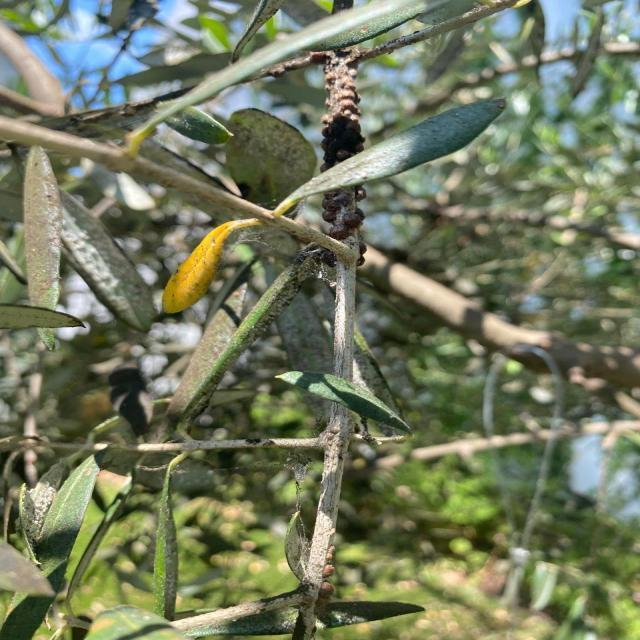BlackScale: (311, 46, 386, 171), (317, 404, 360, 482), (322, 186, 364, 244), (316, 544, 335, 606), (356, 240, 367, 268), (323, 250, 334, 266)
OlivePeacockSpot: (162, 220, 261, 314)
Psyllid: (16, 465, 64, 540), (285, 512, 310, 578)
